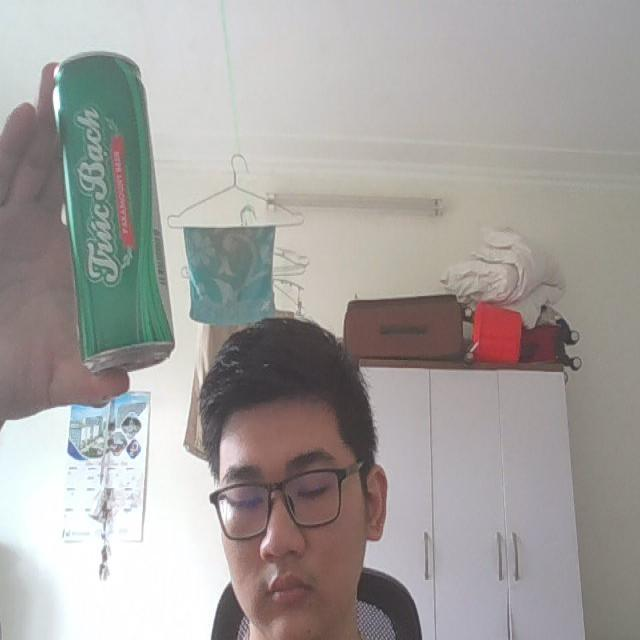Bia-Truc-Bach: (54, 49, 174, 376)
